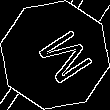M_SW: (21, 22, 89, 88)
